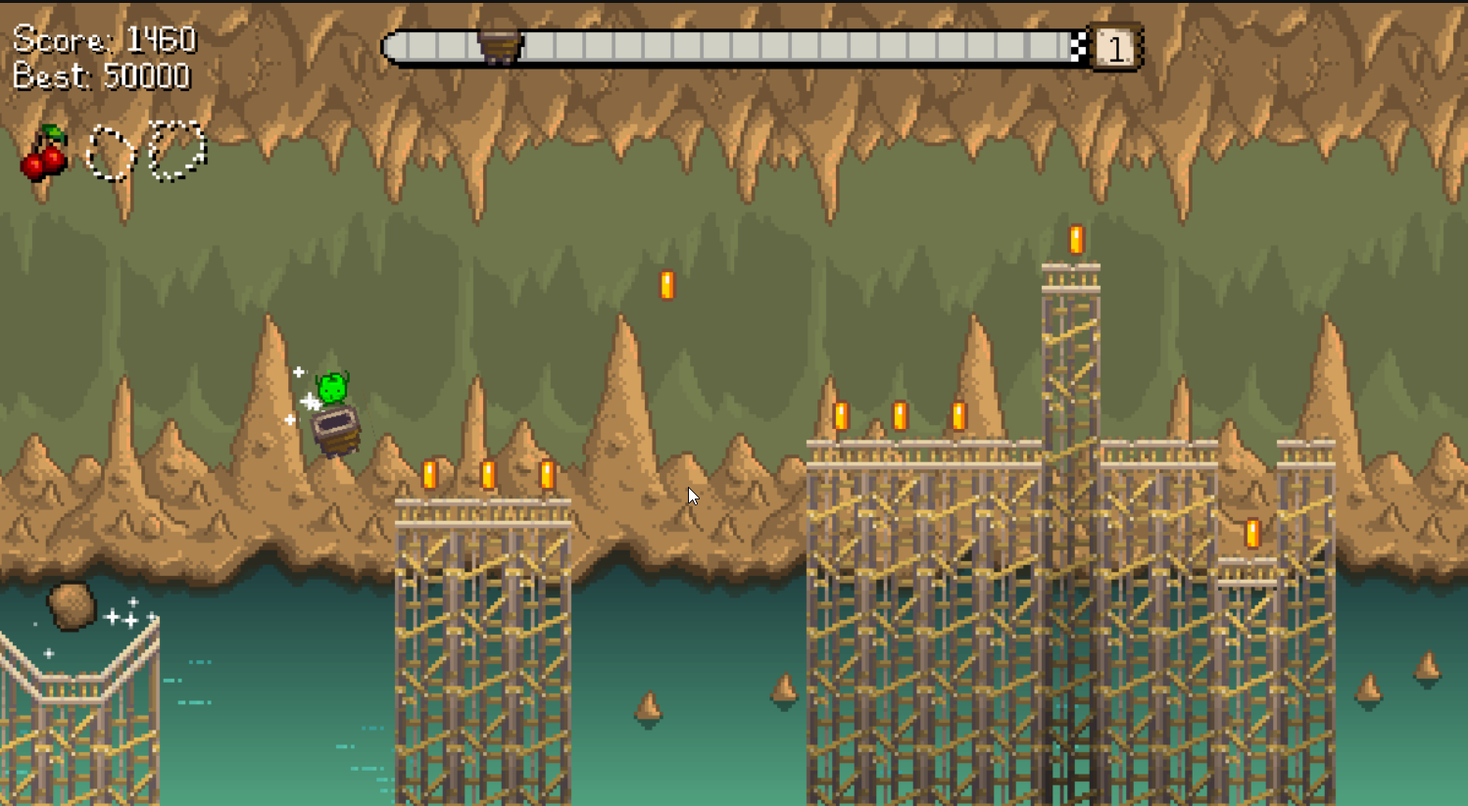boulder: (47, 583, 97, 631)
coins: (1069, 224, 1085, 255), (540, 459, 555, 489), (1246, 519, 1261, 549), (834, 402, 849, 431), (951, 401, 965, 432), (422, 460, 436, 490), (660, 272, 675, 299), (482, 460, 495, 489), (893, 401, 906, 430)
minecart: (313, 405, 360, 456)
tracks: (0, 613, 173, 720), (804, 436, 1045, 471), (393, 493, 576, 535), (1098, 436, 1224, 476), (1035, 260, 1106, 299), (1215, 552, 1281, 591), (1275, 436, 1340, 470)
